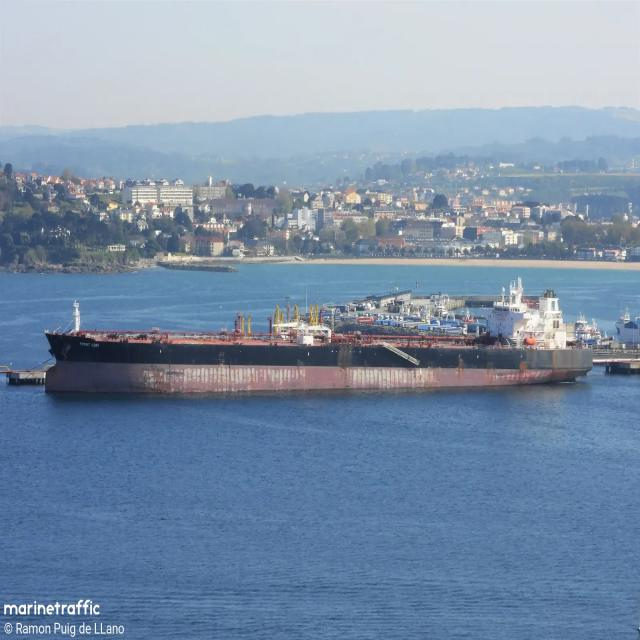Tanker: (45, 279, 592, 395)
